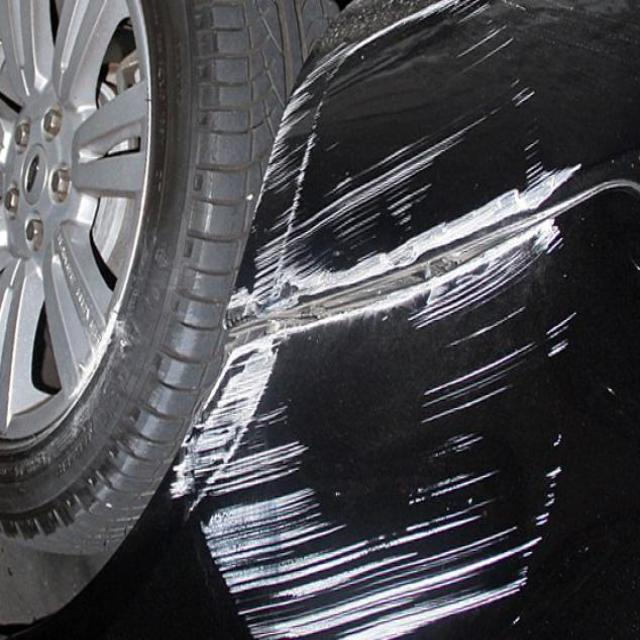scratch: (152, 9, 587, 640)
